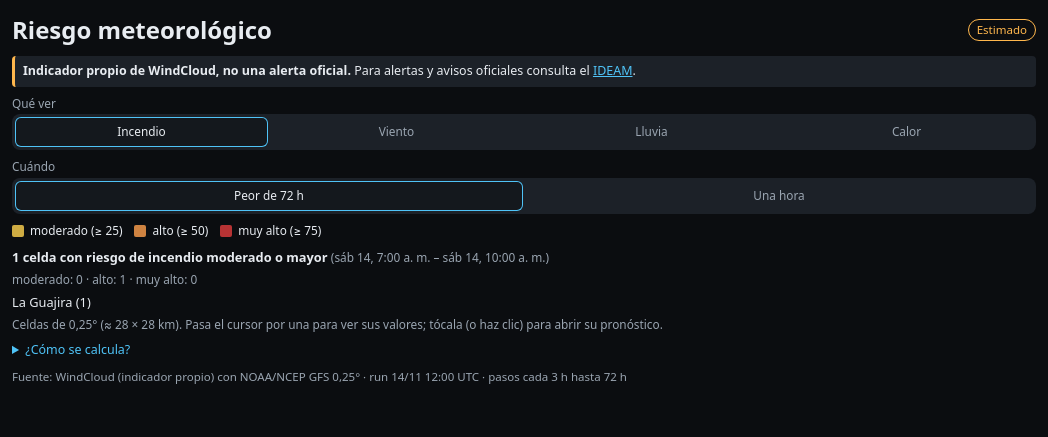
Test: RiskTab › por hora empieza en la hora más cercana a ahora y se mueve con el deslizador
Click the radio button labelled "Calor": (906, 132) [780, 118, 1033, 147]
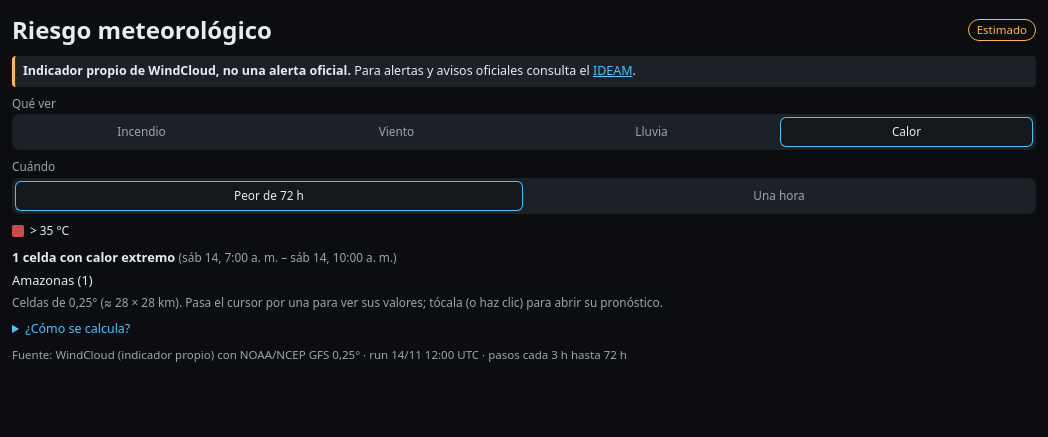
Click the radio button labelled "Una hora": (779, 196) [525, 181, 1033, 211]
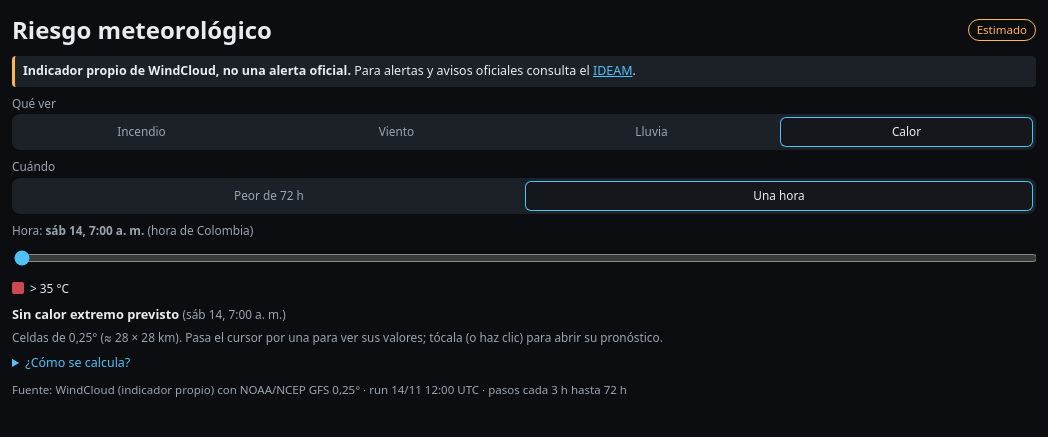
Now the text "Sin calor extremo previsto" is shown, box [12, 305, 179, 323]
Set the slider named "Hora del pronóstico de riesgo" to "1": (1028, 258) [14, 246, 1036, 270]
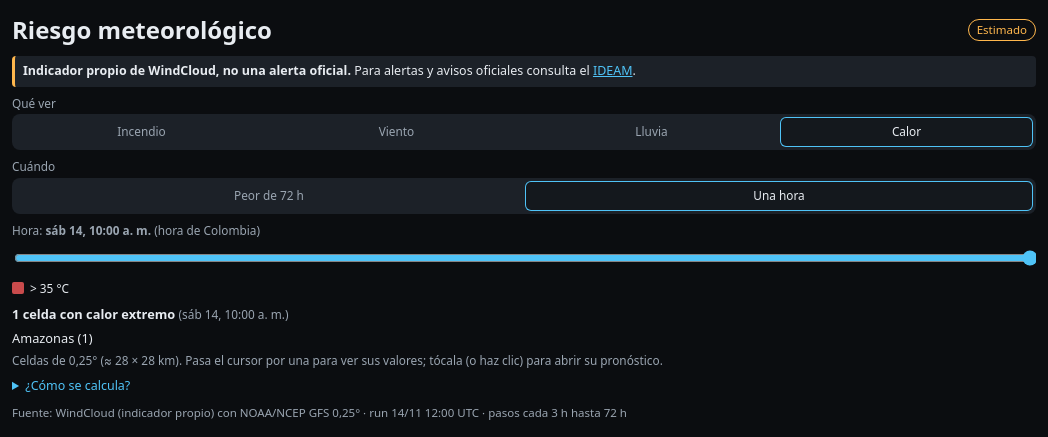
Now the text "1 celda con calor extremo" is shown, box [12, 305, 175, 323]
Now the text "Hora: sáb 14, 10:00 a. m. (hora de Colombia)" is shown, box [12, 222, 260, 238]
